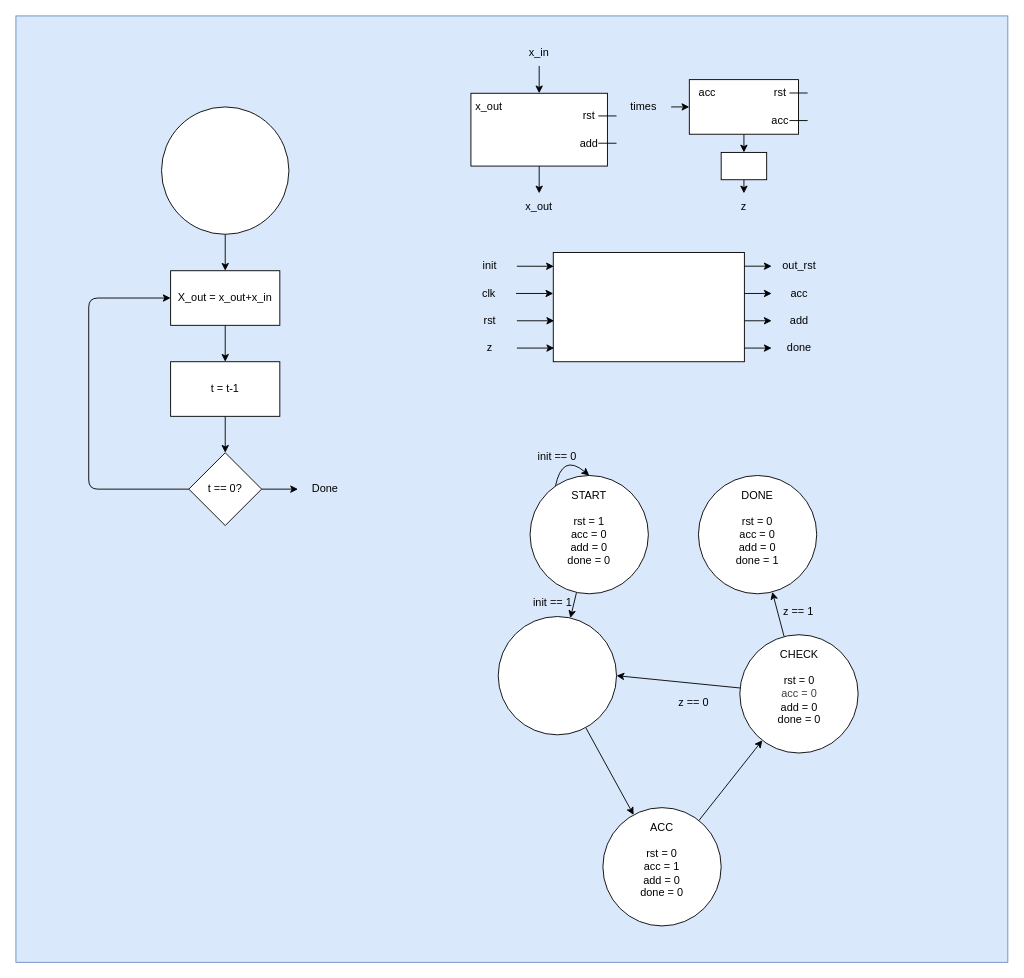
Image size: 1024x978. Some labels were removed from this diagram. The centre of each missing label's shape, as x and y in pixels:
"ADD rst = 0 acc = 0 add = 1 done = 0" goes at point (557, 675).
"COMP" goes at point (743, 166).
"CONTROL" goes at point (648, 307).
"t = times_in x_in = Data_in x_out = 0" goes at point (225, 170).
